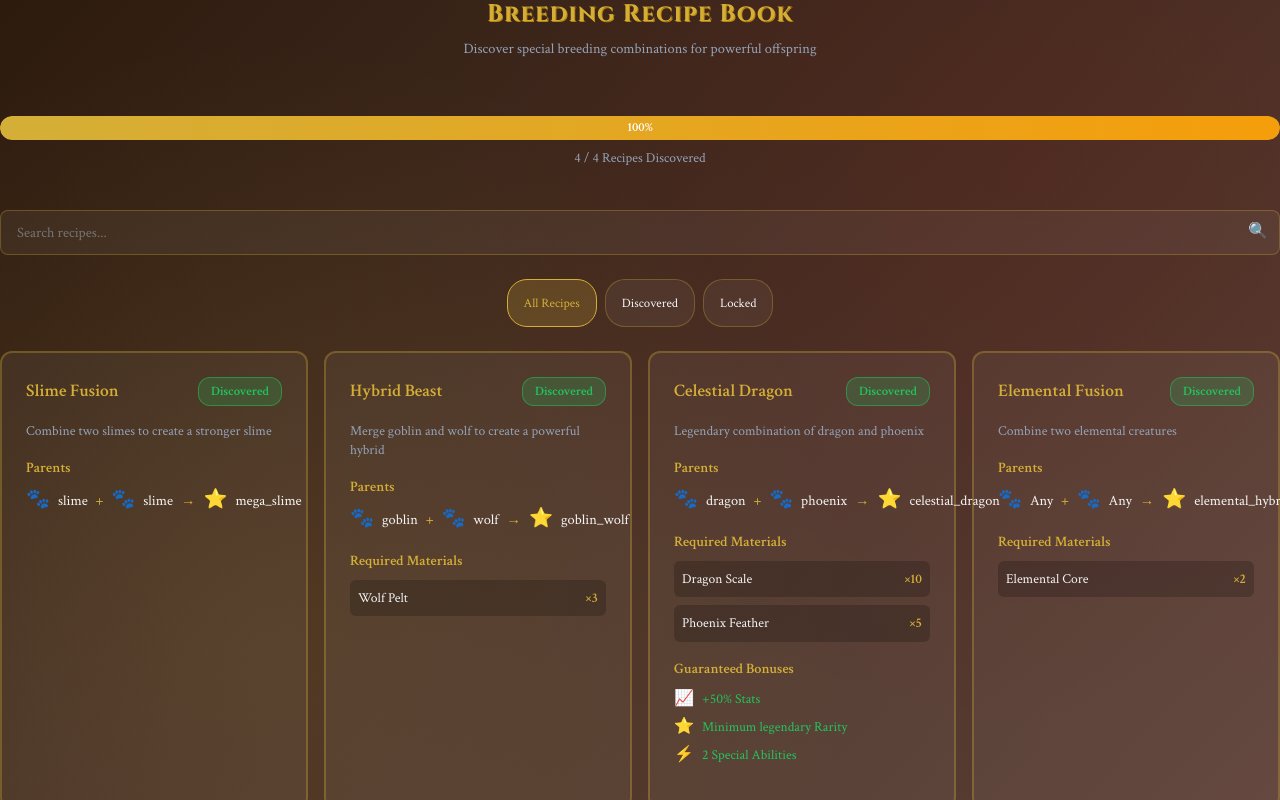
BreedingRecipeBook › Search Functionality › should show empty state when search has no results
Type "nonexistent recipe" into the field with placeholder "Search recipes..." at [640, 232], box x1=0 y1=210 x2=1279 y2=255
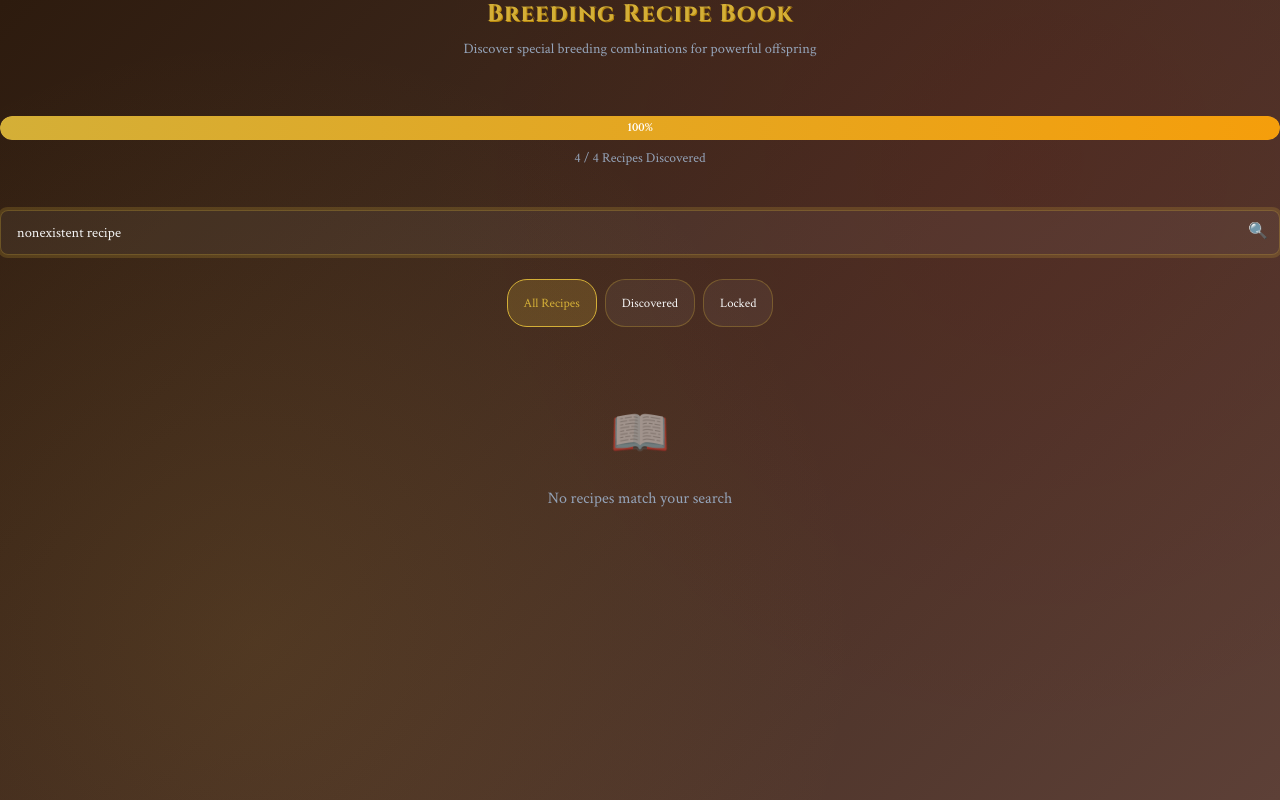
Check: the text "No recipes match your search" is shown, box x1=548 y1=488 x2=732 y2=509
